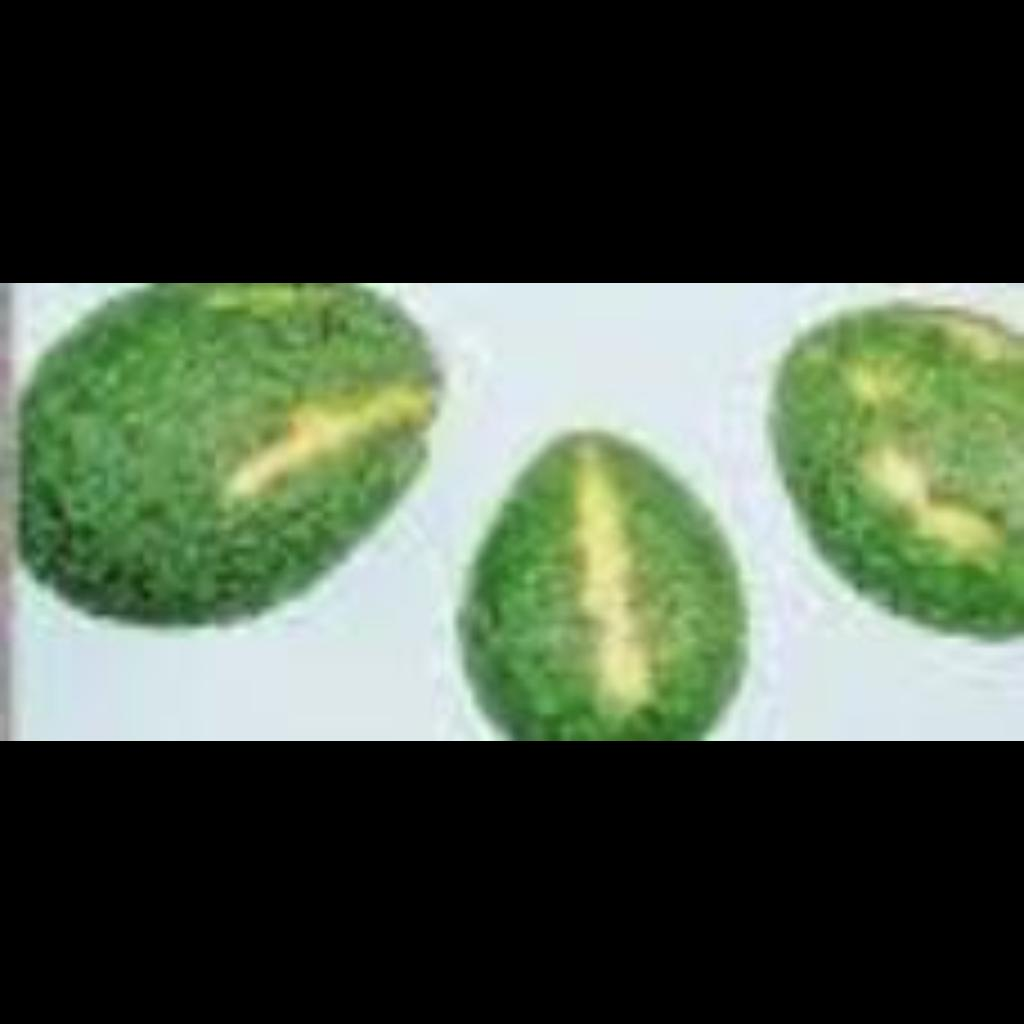sunblotch: (13, 306, 463, 611), (750, 313, 1024, 654), (463, 436, 755, 741)
